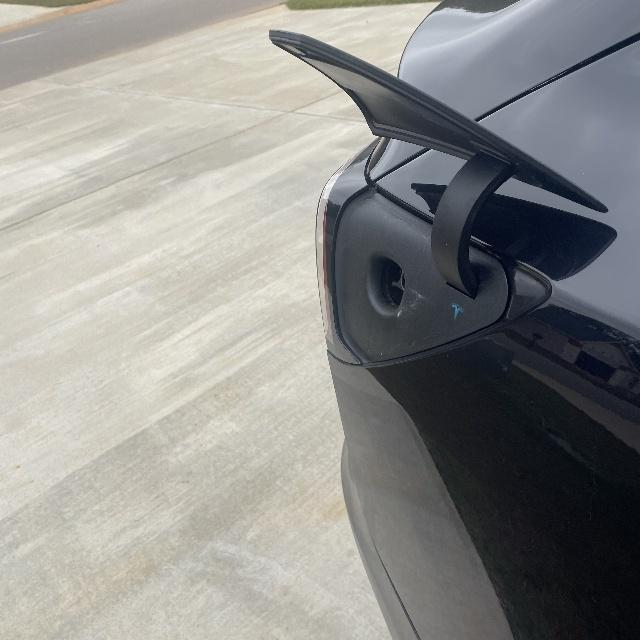Tesla Model-S-: (339, 235, 432, 342)
